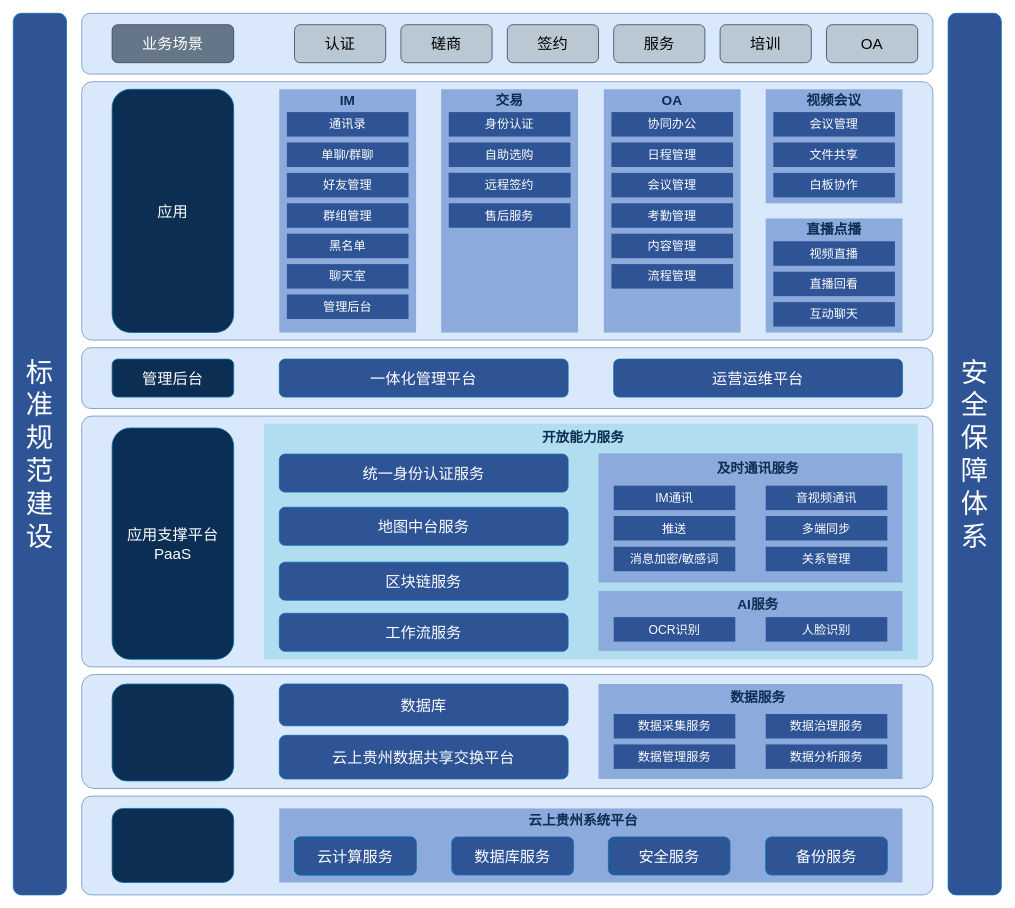
Image size: 1015x908. Some labels were removed from this diagram. Here are the shapes that lost their labels. From the top down, the centre of each, then its label:
At point (172, 732): "数据中台 DaaS".
At point (172, 845): "基础设施 IaaS".
